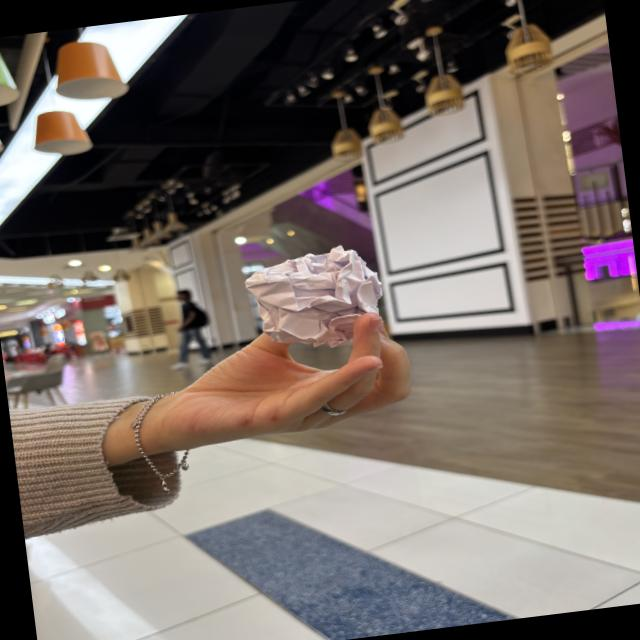crumpled_paper: (242, 234, 395, 356)
